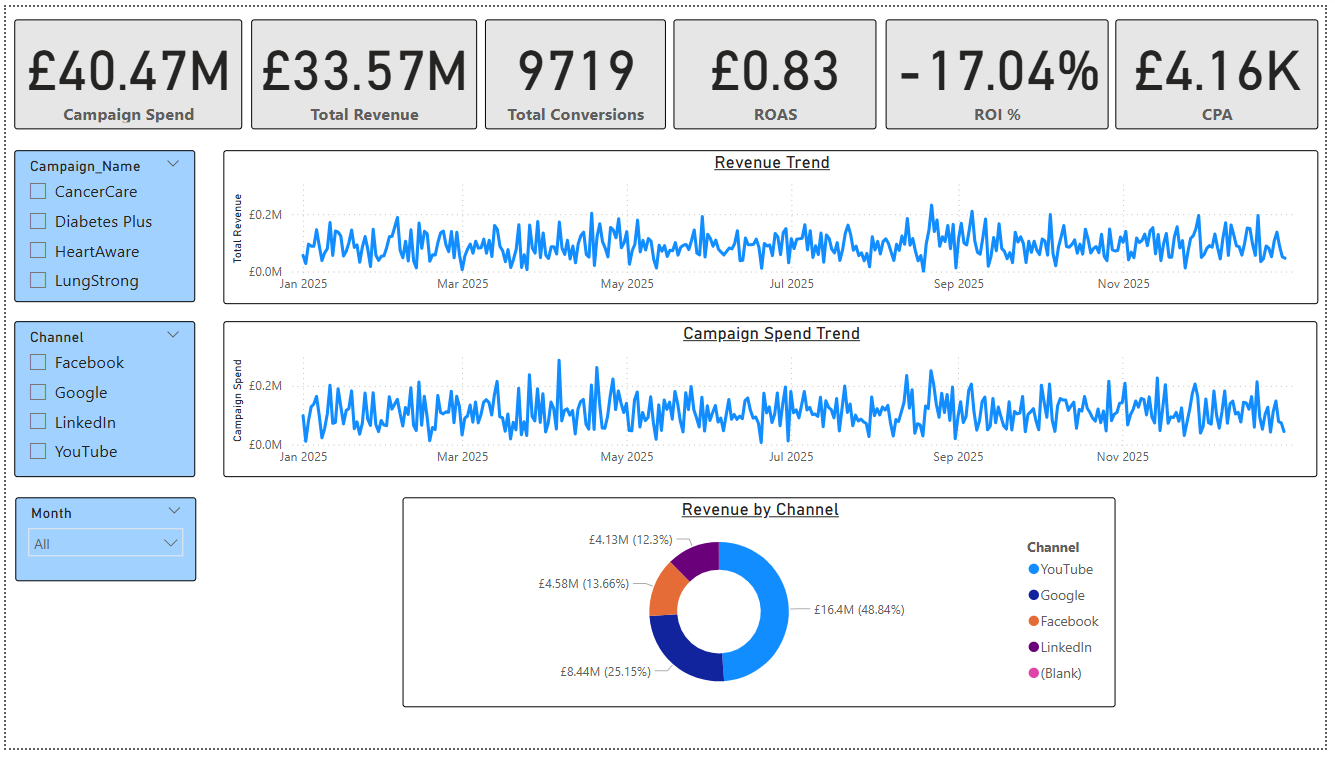

What the dashboard file says about the page in this screenshot:
{"tool":"powerbi","page":{"name":"Executive Overview","canvas":[1280,720],"ordinal":0},"visuals":[{"type":"card","fields":{"Values":["Measure.Campaign Spend"]},"box":[8.1,11.6,221.2,107.5],"z":0},{"type":"card","fields":{"Values":["Measure.Total Revenue"]},"box":[238.2,11.6,218.5,107.5],"z":1000},{"type":"card","fields":{"Values":["Measure.ROAS"]},"box":[648.4,11.6,196.1,107.5],"z":2000},{"type":"card","fields":{"Values":["Measure.CPA"]},"box":[1077.4,11.6,196.1,107.5],"z":3000},{"type":"card","fields":{"Values":["Measure.Total Conversions"]},"box":[464.8,11.6,175.5,107.5],"z":4000},{"type":"slicer","fields":{"Values":["clean_campaign.Campaign_Name"]},"box":[8.1,138.8,174.6,147.8],"z":5000},{"type":"slicer","fields":{"Values":["clean_campaign.Channel"]},"box":[7,296,175,152],"z":6000},{"type":"slicer","fields":{"Values":["DateTable.Month"]},"box":[8,626,175,82],"z":7000},{"type":"card","fields":{"Values":["Measure.ROI %"]},"box":[853.5,11.6,216.7,107.5],"z":8000},{"type":"lineChart","title":"Revenue Trend","fields":{"Category":["DateTable.Date"],"Y":["Measure.Total Revenue"]},"box":[211.4,138.8,1062.2,150.5],"z":9000},{"type":"lineChart","title":"Campaign Spend Trend","fields":{"Category":["DateTable.Date"],"Y":["Measure.Campaign Spend"]},"box":[211,305,1062,152],"z":10000},{"type":"donutChart","title":"Revenue by Channel","fields":{"Category":["clean_campaign.Channel"],"Y":["Measure.Total Revenue"]},"box":[385.1,476.5,692.3,203.3],"z":11000},{"type":"slicer","fields":{"Values":["clean_audience(in).Condition"]},"box":[8,457,173,159],"z":11001}]}

Visuals, with their boxes in screenshot pixels (x1, y1, x2, y2), scaled from the page's 1280x720 canvas onto the 1335x760 screenshot:
card - Measure.Campaign Spend: [x1=8, y1=12, x2=239, y2=126]
card - Measure.Total Revenue: [x1=248, y1=12, x2=476, y2=126]
card - Measure.ROAS: [x1=676, y1=12, x2=881, y2=126]
card - Measure.CPA: [x1=1124, y1=12, x2=1328, y2=126]
card - Measure.Total Conversions: [x1=485, y1=12, x2=668, y2=126]
slicer - clean_campaign.Campaign_Name: [x1=8, y1=147, x2=191, y2=303]
slicer - clean_campaign.Channel: [x1=7, y1=312, x2=190, y2=473]
slicer - DateTable.Month: [x1=8, y1=661, x2=191, y2=747]
card - Measure.ROI %: [x1=890, y1=12, x2=1116, y2=126]
"Revenue Trend" lineChart: [x1=220, y1=147, x2=1328, y2=305]
"Campaign Spend Trend" lineChart: [x1=220, y1=322, x2=1328, y2=482]
"Revenue by Channel" donutChart: [x1=402, y1=503, x2=1124, y2=718]
slicer - clean_audience(in).Condition: [x1=8, y1=482, x2=189, y2=650]
